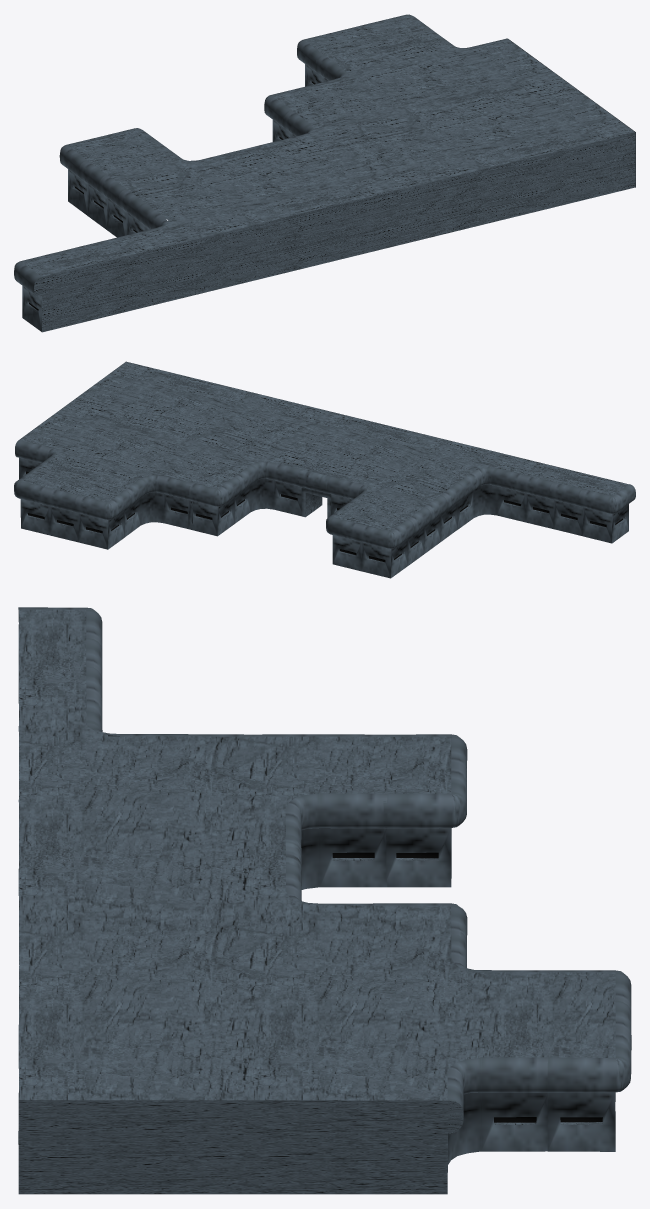
Rendered from BunkerNew.fbx.
The picture shows the model from 3 angles, top to bottom: view 1: azimuth 30°, elevation 25°; view 2: azimuth 150°, elevation 25°; view 3: azimuth 270°, elevation 25°; orthographic projection. The views are drawn at different scales.
Parts seen in each view (by area): view 1: BunkerCorner.Outer.005; view 2: BunkerCorner.Outer.005; view 3: BunkerCorner.Outer.005.
Boxes of the visible parts, x1,y1,x2,y2 form: BunkerCorner.Outer.005: (14,14,635,332); BunkerCorner.Outer.005: (14,361,635,578); BunkerCorner.Outer.005: (18,607,631,1194).
Size of the model in its own units: 17694 by 1568 by 9213.
